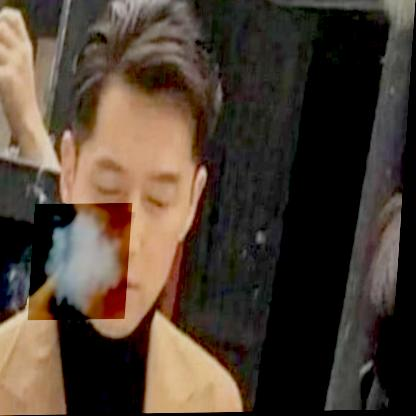smoke: (32, 203, 135, 320)
